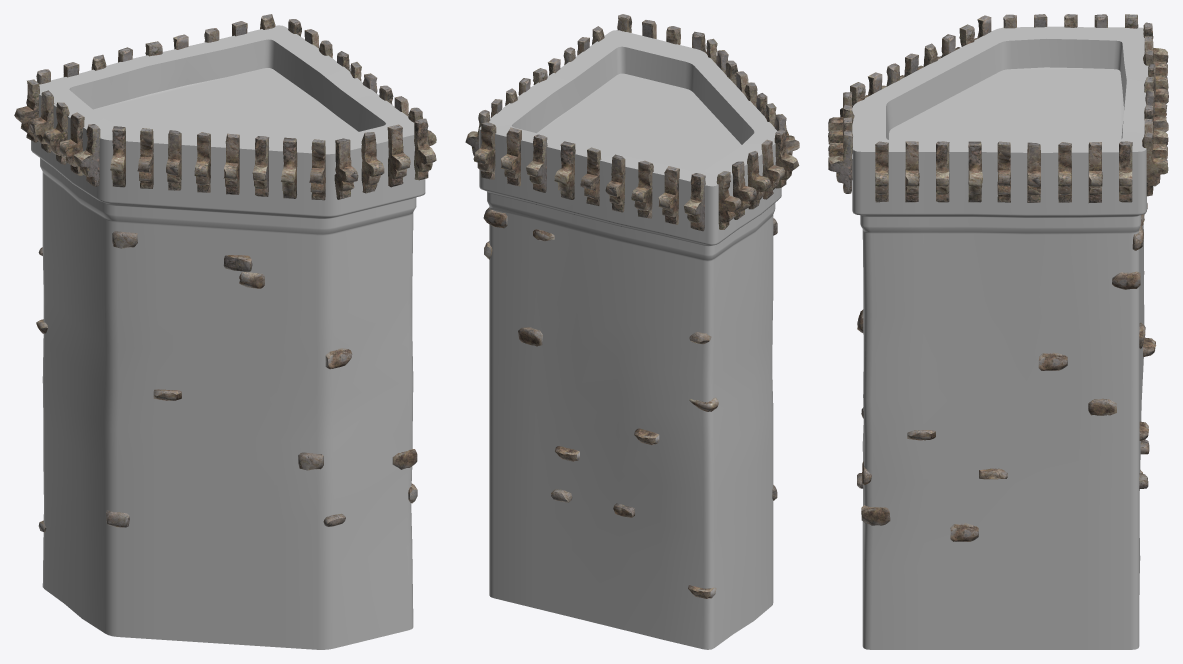
File: SM_EntranceLargePillar06.FBX
3 views of the same model, side by side, from view 1: azimuth 30°, elevation 25°; view 2: azimuth 150°, elevation 25°; view 3: azimuth 270°, elevation 25° (orthographic). The views are drawn at different scales.
Parts seen in each view (by area): view 1: SM_EntranceLargePillar06; view 2: SM_EntranceLargePillar06; view 3: SM_EntranceLargePillar06.
Boxes of the visible parts, bbox=[...] form: SM_EntranceLargePillar06: bbox=[14, 14, 436, 649]; SM_EntranceLargePillar06: bbox=[465, 14, 799, 649]; SM_EntranceLargePillar06: bbox=[828, 14, 1168, 649].
Size of the model in its own units: 1231 by 1232 by 2058.
